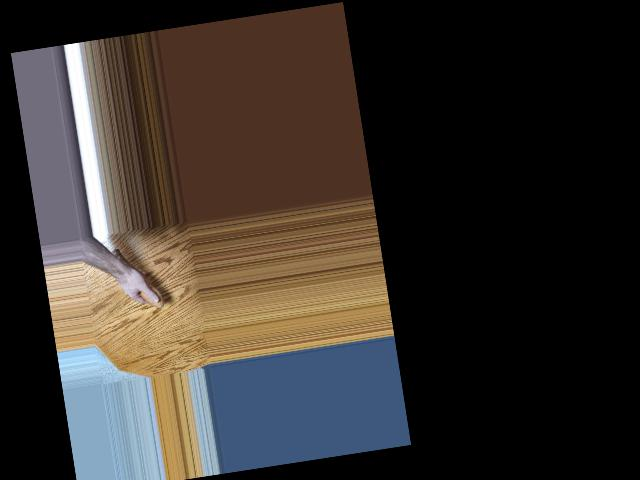sweet_potato: (110, 241, 164, 314)
